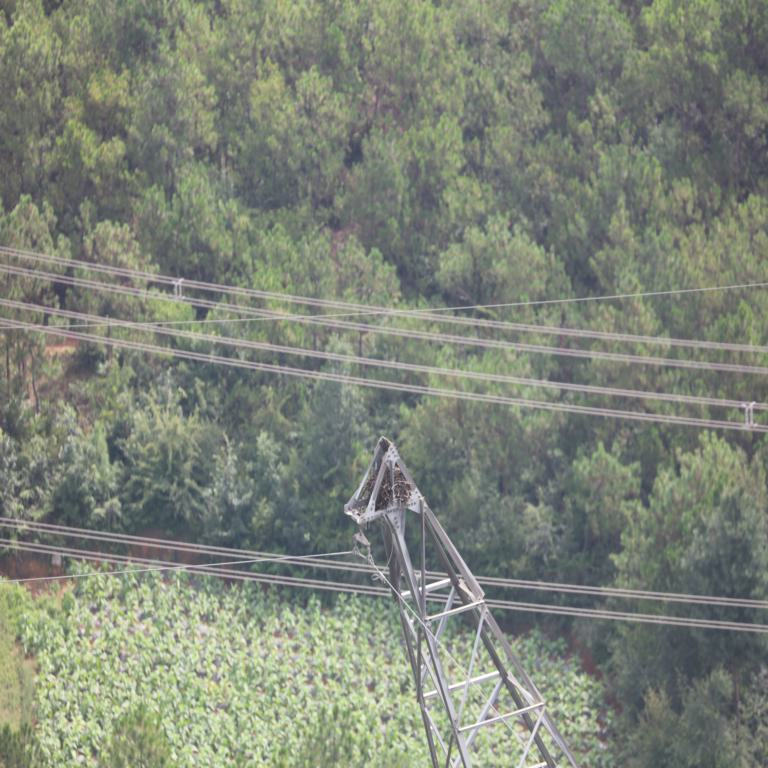nest: (366, 466, 411, 513)
